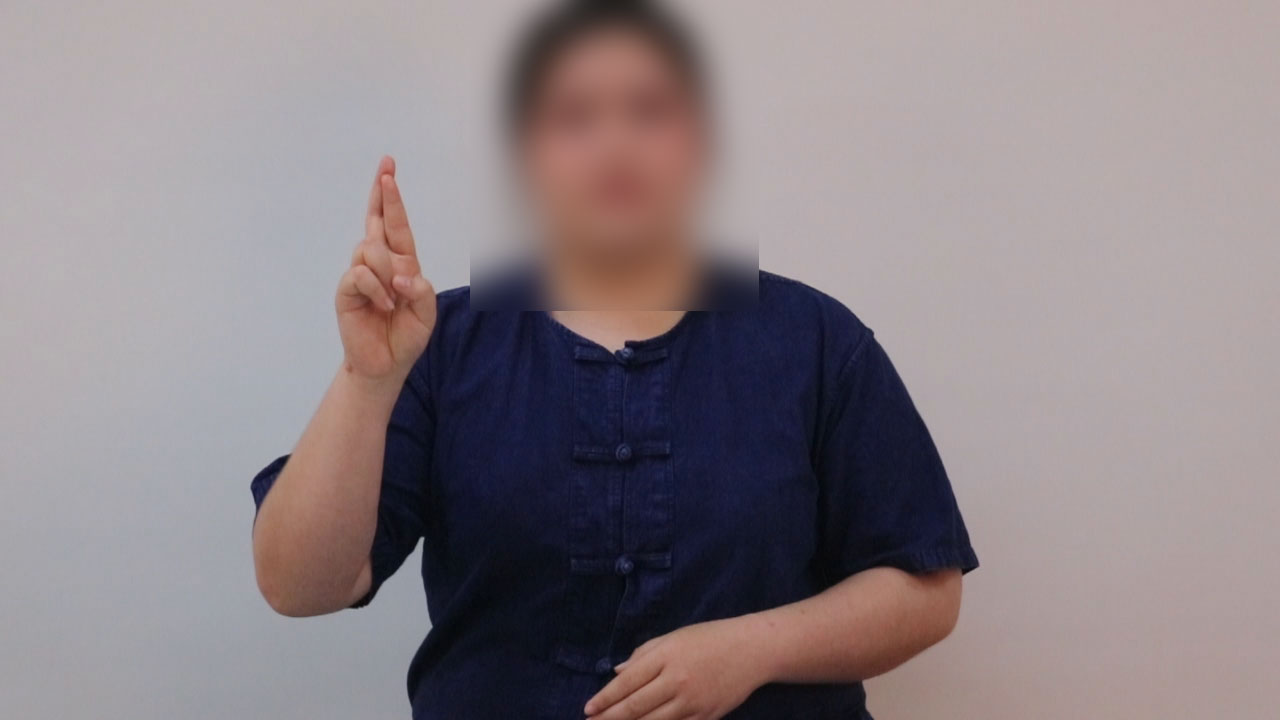rao: (312, 145, 443, 423)
